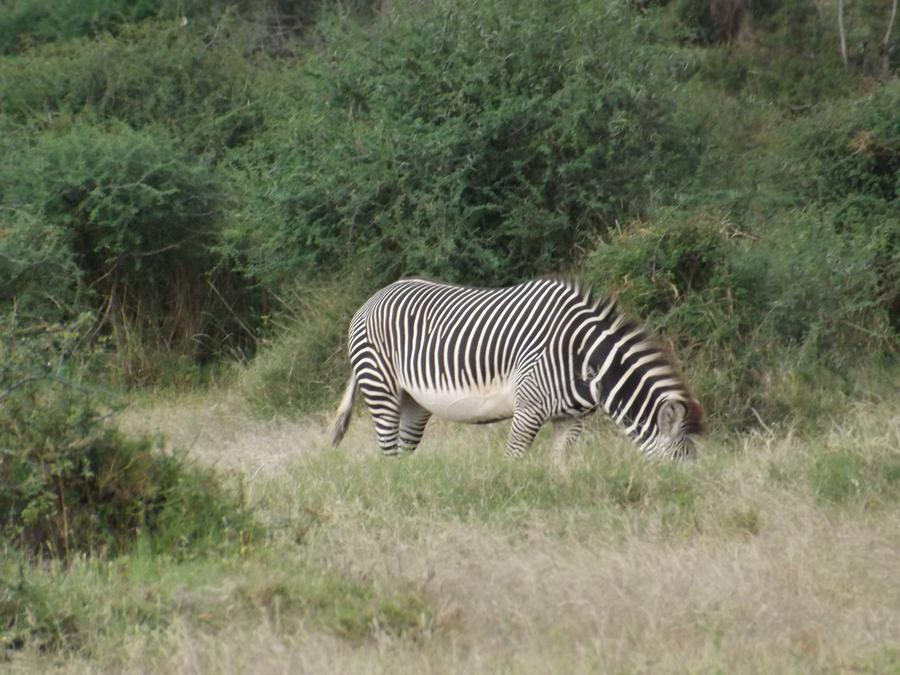zebra_grevys: (331, 254, 562, 426)
